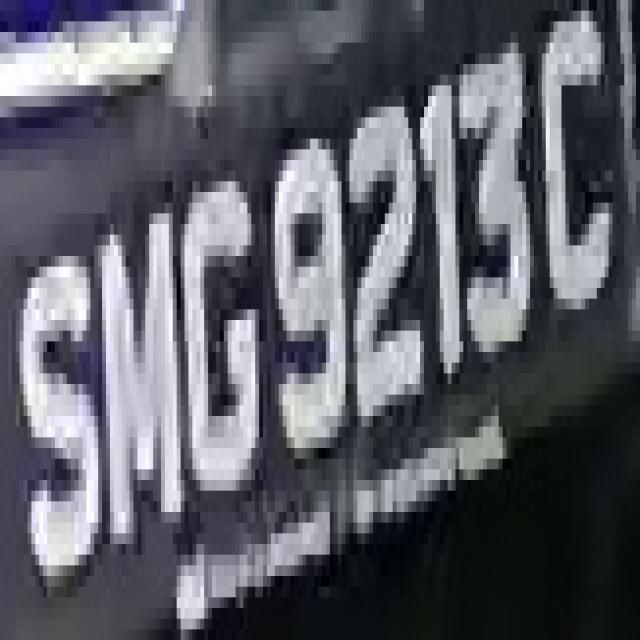1: (412, 0, 463, 437)
2: (342, 53, 420, 459)
3: (452, 32, 530, 363)
9: (263, 107, 346, 490)
C: (534, 32, 616, 352)
G: (173, 149, 259, 523)
M: (82, 203, 196, 565)
S: (8, 213, 102, 608)
